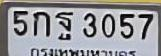0: (101, 12, 116, 38)
3: (82, 12, 97, 38)
5: (119, 13, 134, 39), (13, 10, 27, 35)
7: (137, 13, 154, 40)
A01: (32, 10, 50, 38)
A16: (54, 11, 74, 41)
